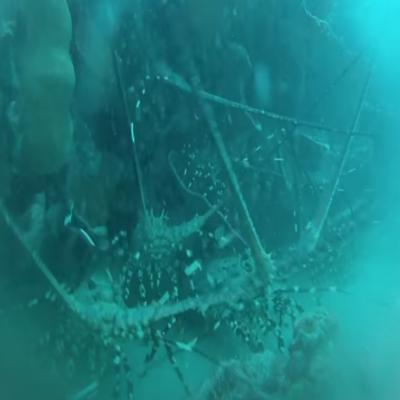lobster: (205, 250, 294, 335), (59, 259, 131, 361), (129, 208, 182, 278)
